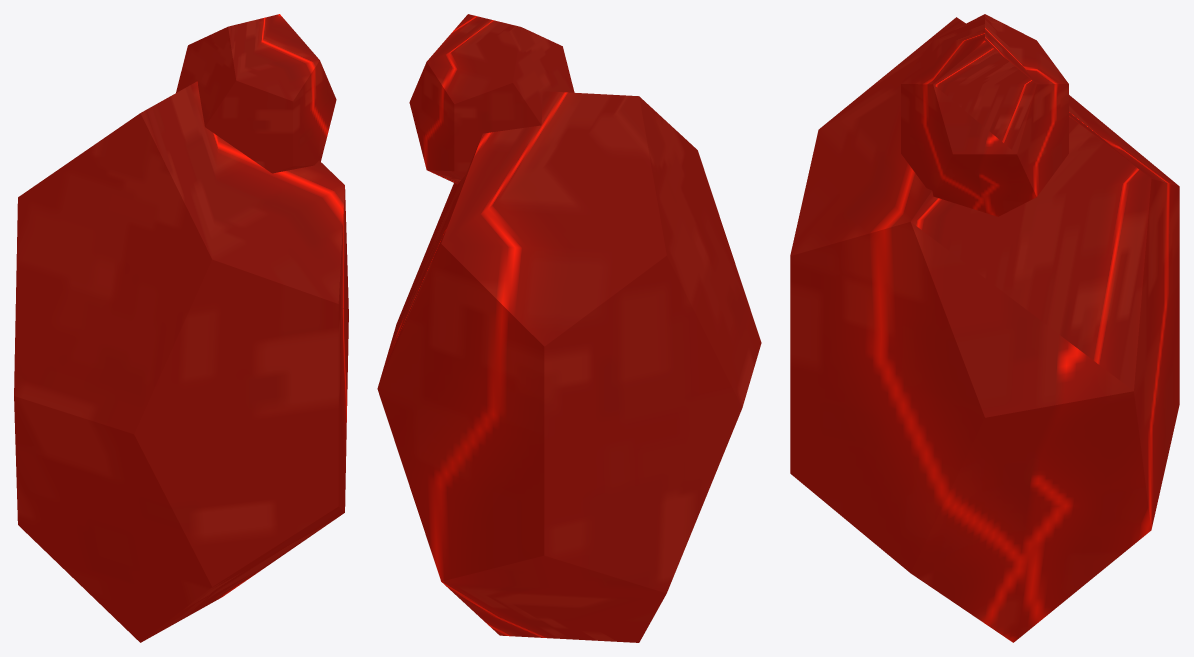
Rendered from wall.glb.
3 renders of one model, left to right at view 1: azimuth 30°, elevation 25°; view 2: azimuth 150°, elevation 25°; view 3: azimuth 270°, elevation 25°, orthographic. The views are drawn at different scales.
Visible parts, largest first — view 1: hell wall; view 2: hell wall; view 3: hell wall.
Part boxes in pixels (x1,y1,x2,y2): hell wall: (14,14,348,642); hell wall: (377,14,761,642); hell wall: (790,14,1179,642).
Bounding box in the file's own units: 2.31 × 3.84 × 2.17.
Materials: 1 (1 with a texture image).
